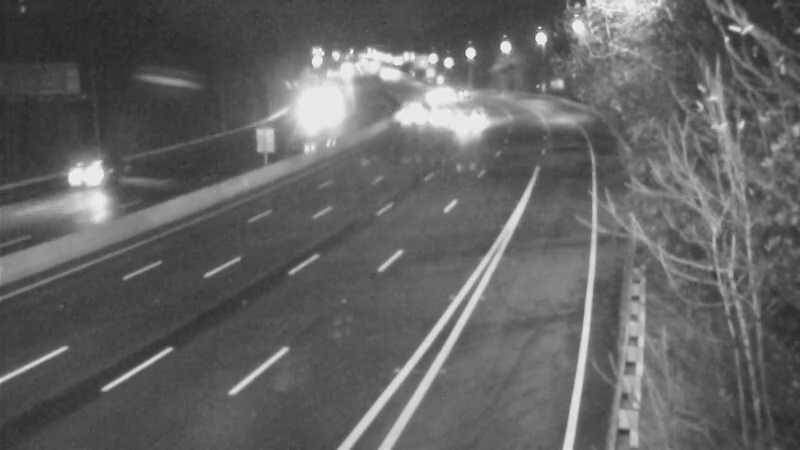vehicle: (43, 130, 123, 210), (408, 71, 458, 121), (416, 90, 466, 140), (390, 91, 440, 141), (446, 94, 496, 144)
